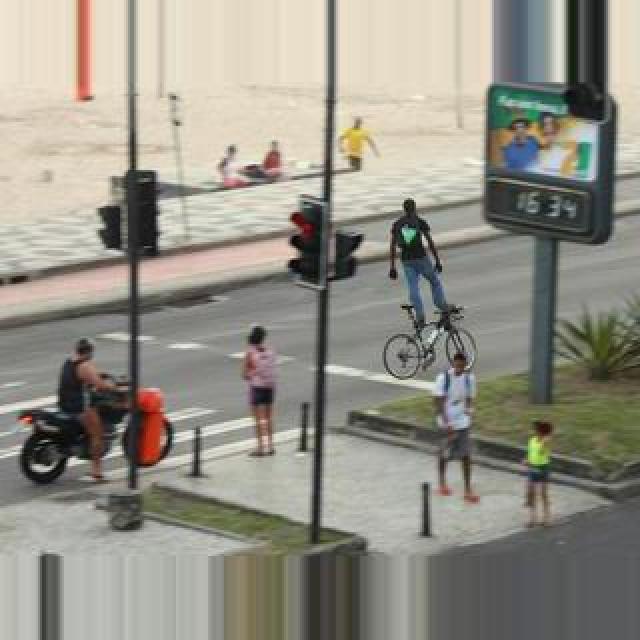Emergency Vehicles-Bike: (18, 382, 164, 488)
MC-Bike: (56, 340, 124, 478), (388, 196, 448, 326), (432, 350, 480, 502), (240, 326, 280, 458), (518, 420, 556, 524), (338, 118, 378, 172)
Person: (382, 302, 478, 380)
